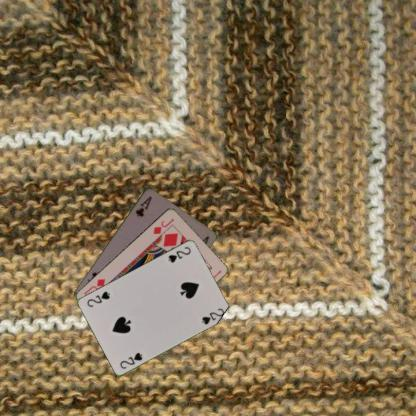2s: (117, 349, 144, 370), (166, 244, 192, 263)
Ac: (133, 193, 153, 218)
Jd: (150, 216, 176, 235)
